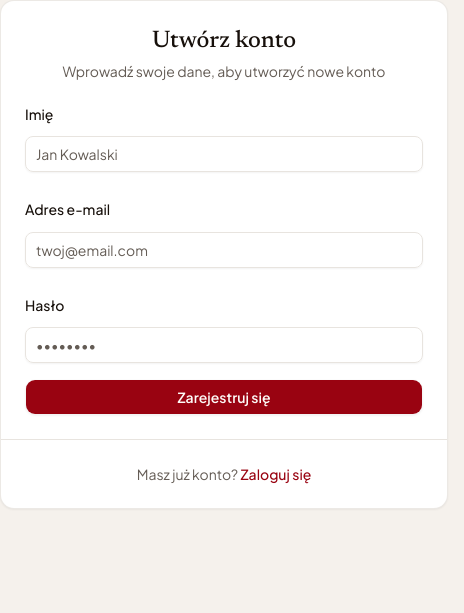
it: app/register/_components/Register › validates form fields and displays errors on empty submission
Click the button "Zarejestruj się": (224, 397) [25,379,423,415]
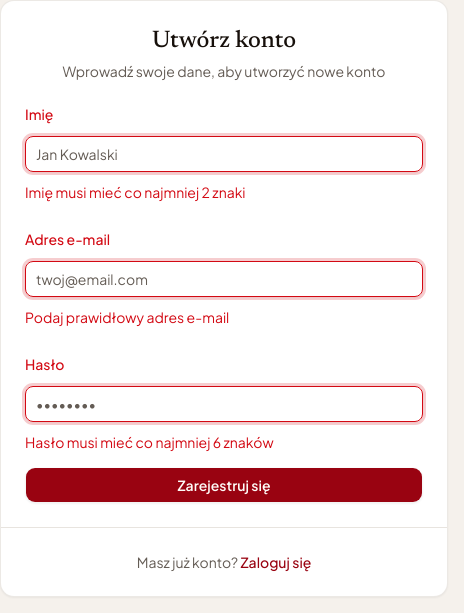
Expected: the text "Imię musi mieć co najmniej 2 znaki" is shown, [25,183,246,201]
Expected: the text "Podaj prawidłowy adres e-mail" is shown, [25,308,229,326]
Expected: the text "Hasło musi mieć co najmniej 6 znaków" is shown, [25,433,274,451]
